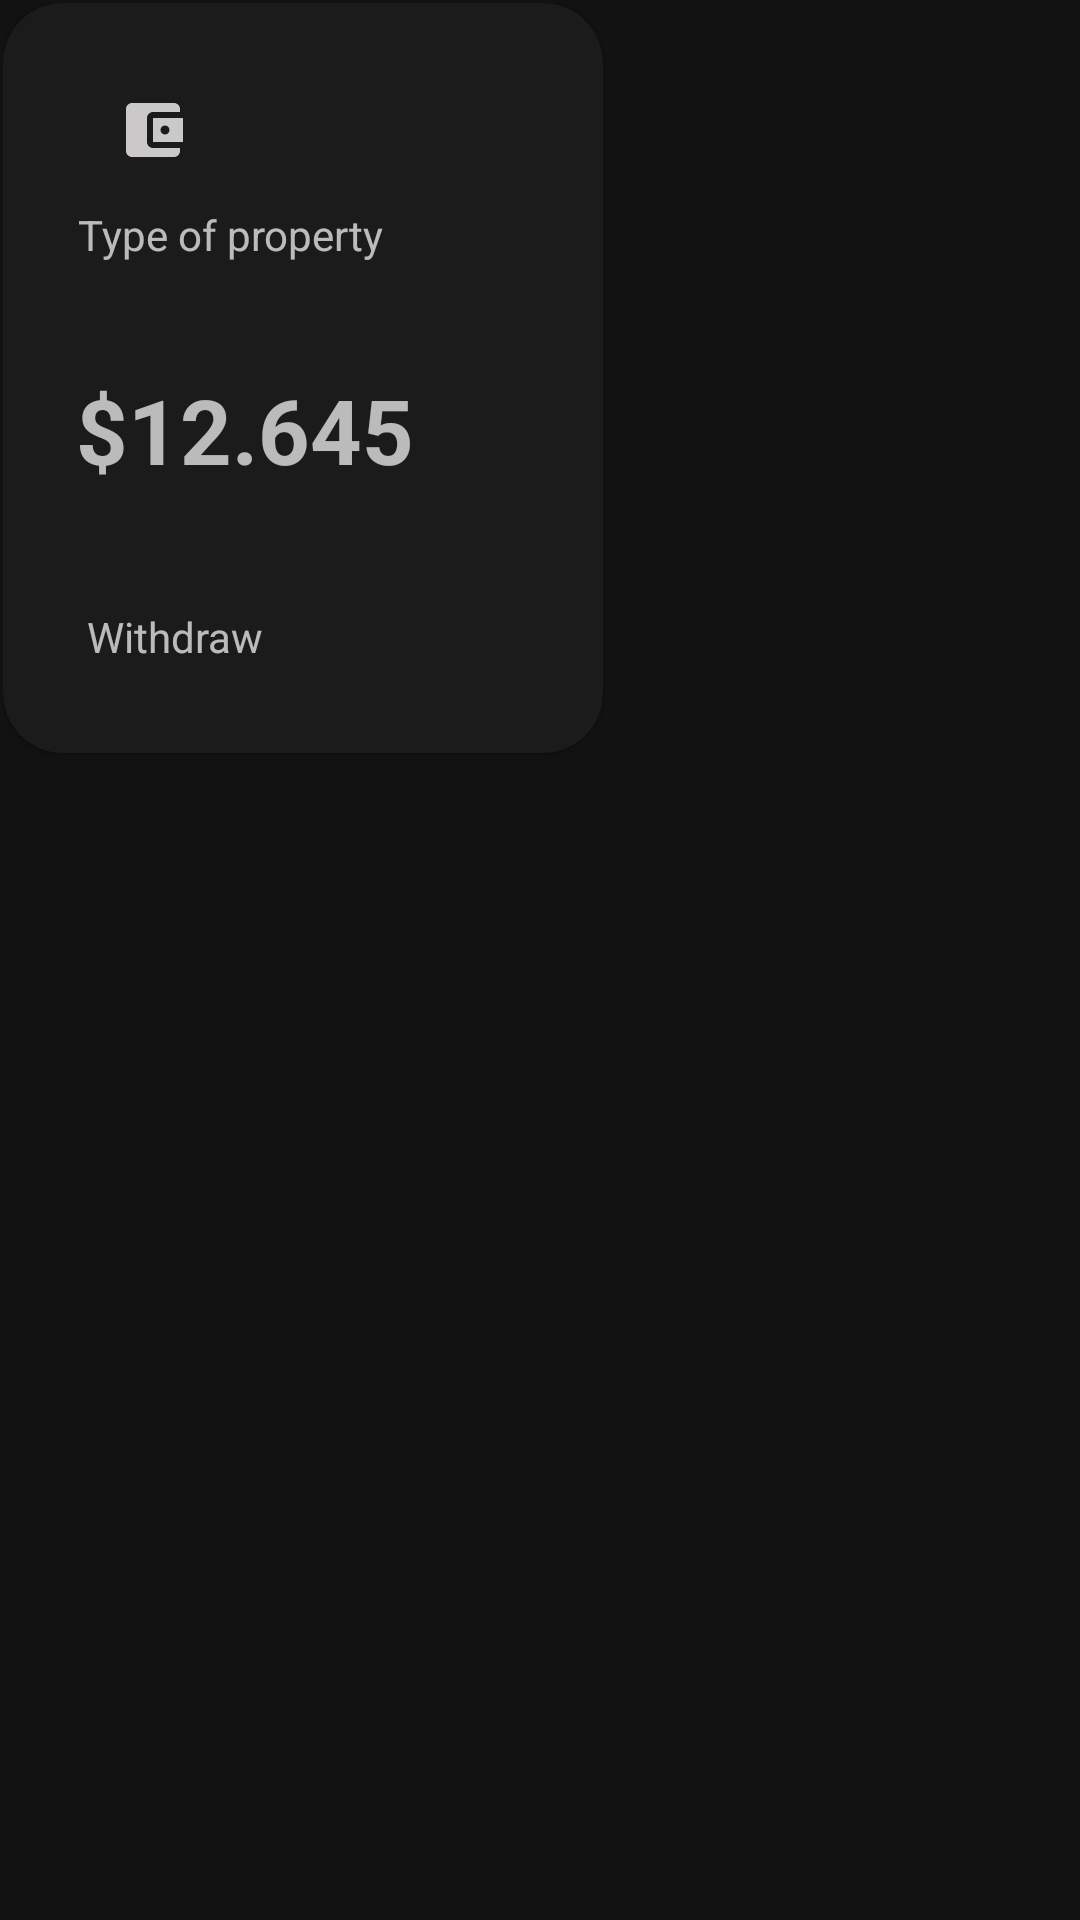

Icon click points for this 1080×1920 phone screenshot, format (x,y):
balance wallet: (154,130)
